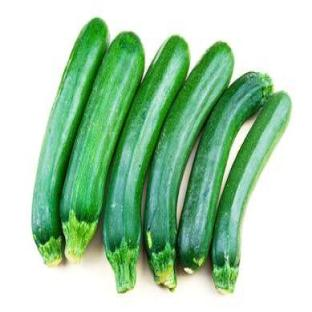Zucchini: (103, 36, 189, 292), (144, 42, 233, 289), (61, 33, 144, 261), (178, 72, 272, 273), (33, 18, 108, 266), (212, 93, 291, 292)
